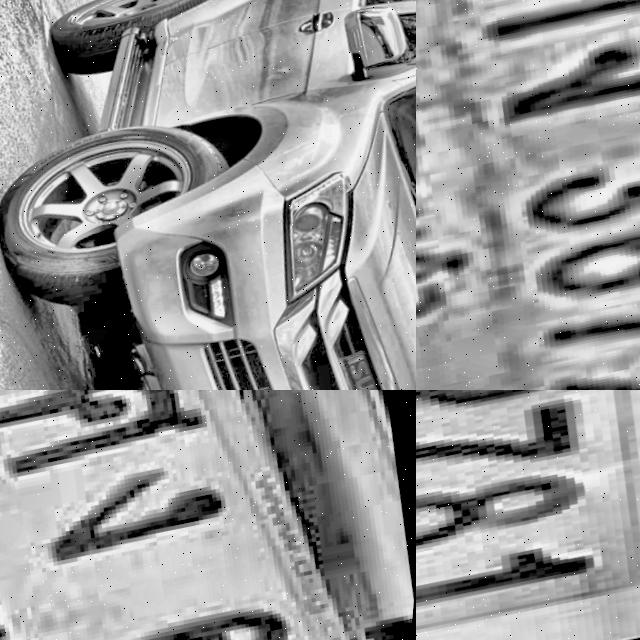license-plate: (0, 390, 416, 640), (416, 0, 640, 390), (416, 390, 640, 640)
